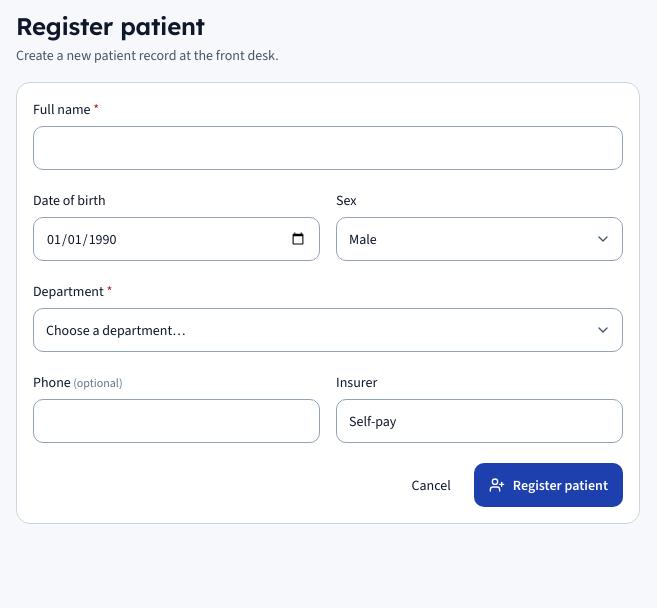
it: Patient registration wiring (#26) › surfaces a live 422 validation error without discarding the form
Type "Budi" into the field labelled "Full name *" at (328,148), box [33,126,623,170]
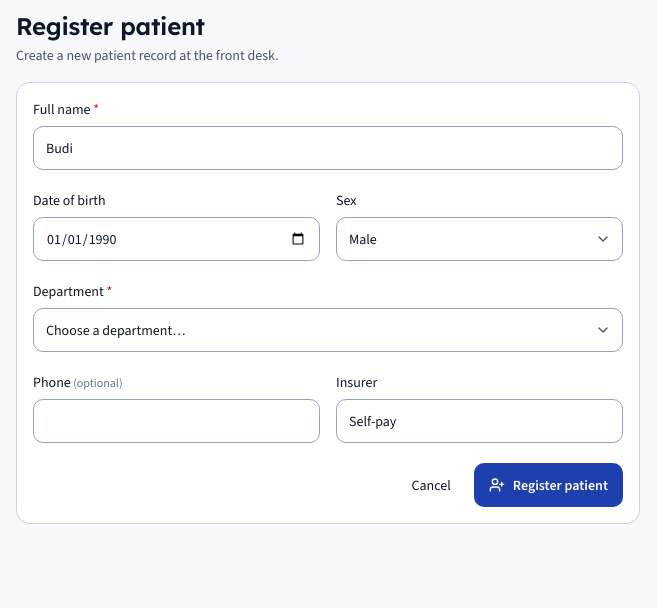
Select "GEN — General" in the dropdown labelled "Department *" at (328,330), box [33,308,623,352]
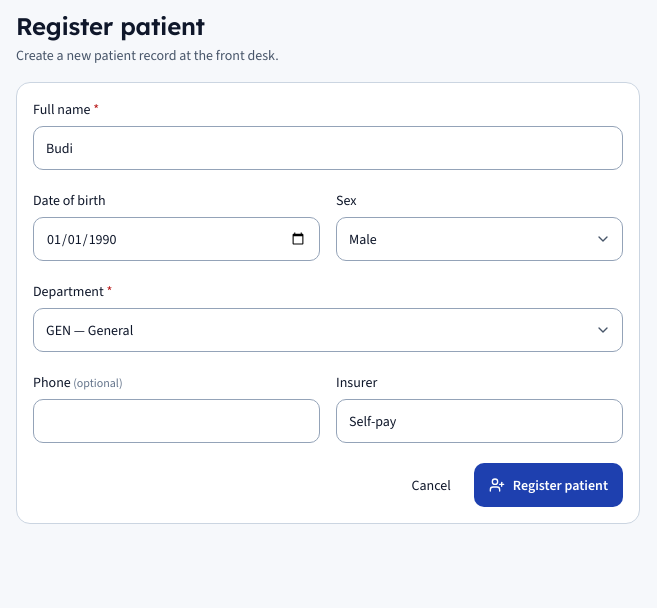
Click the button "Register patient" at (548,485), box [474,463,623,507]
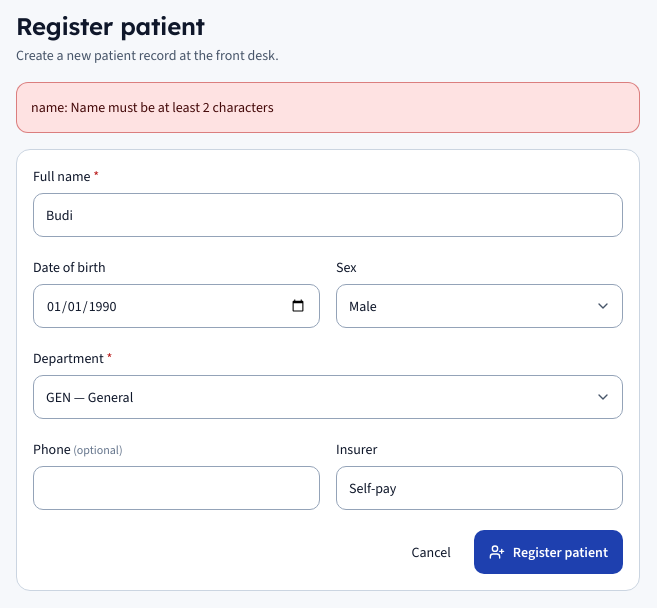
Now the message shows "Name must be at least 2 characters", box [31,98,274,117]
